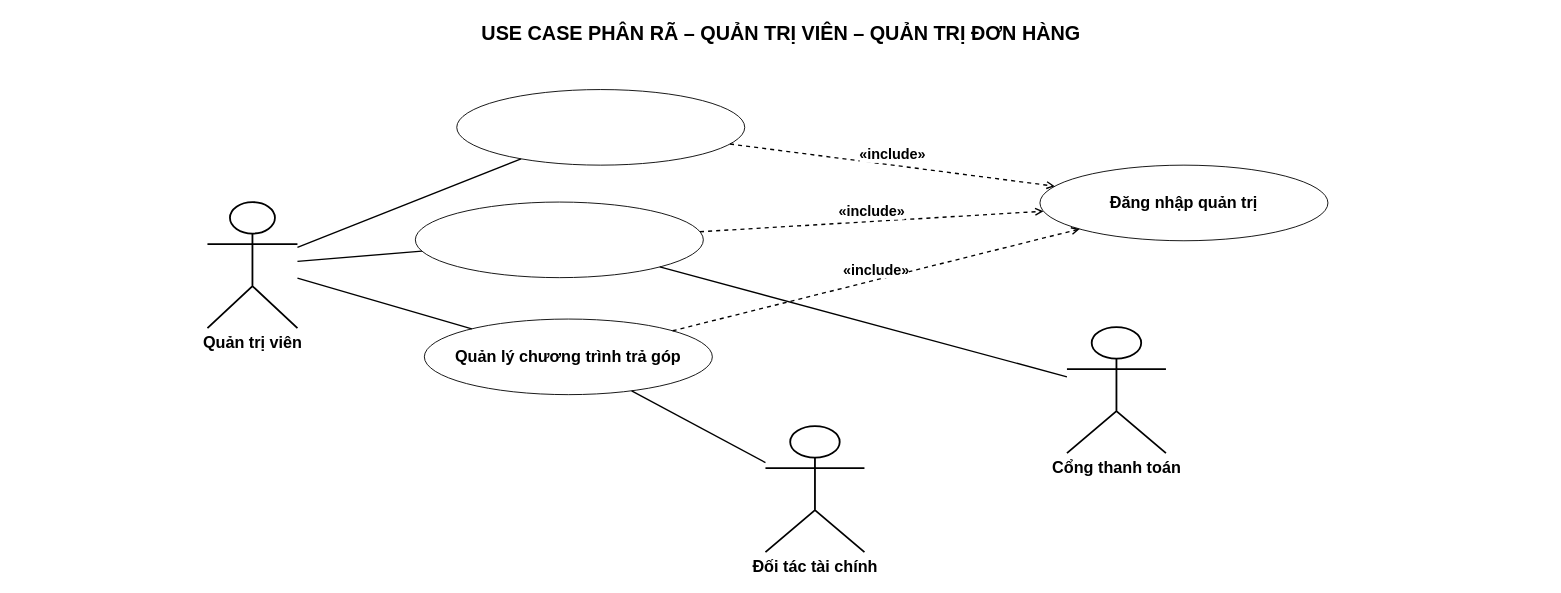
This 1561x593 diagram has some shape labels left out. The centre of each missing label's shape, as x and y in pixels:
Quản lý thanh toán: [558,239]
Quản lý đơn hàng: [600,127]
